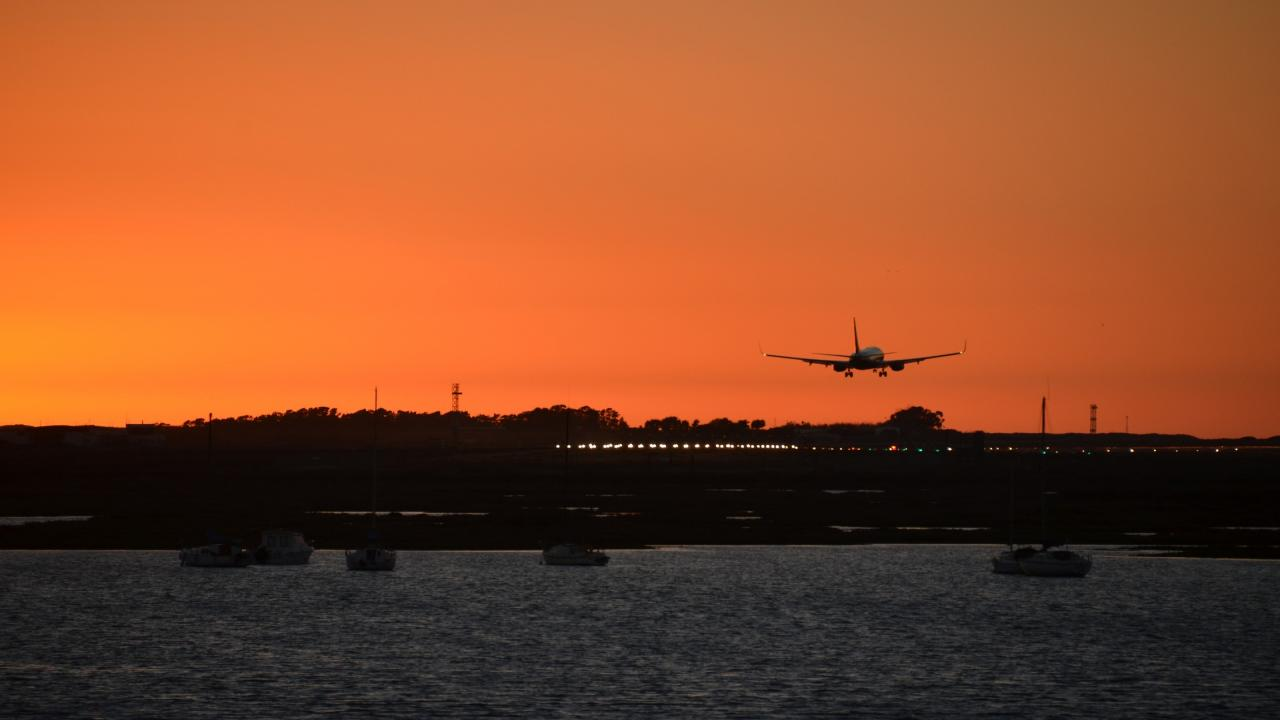Airplane: (756, 310, 978, 385)
